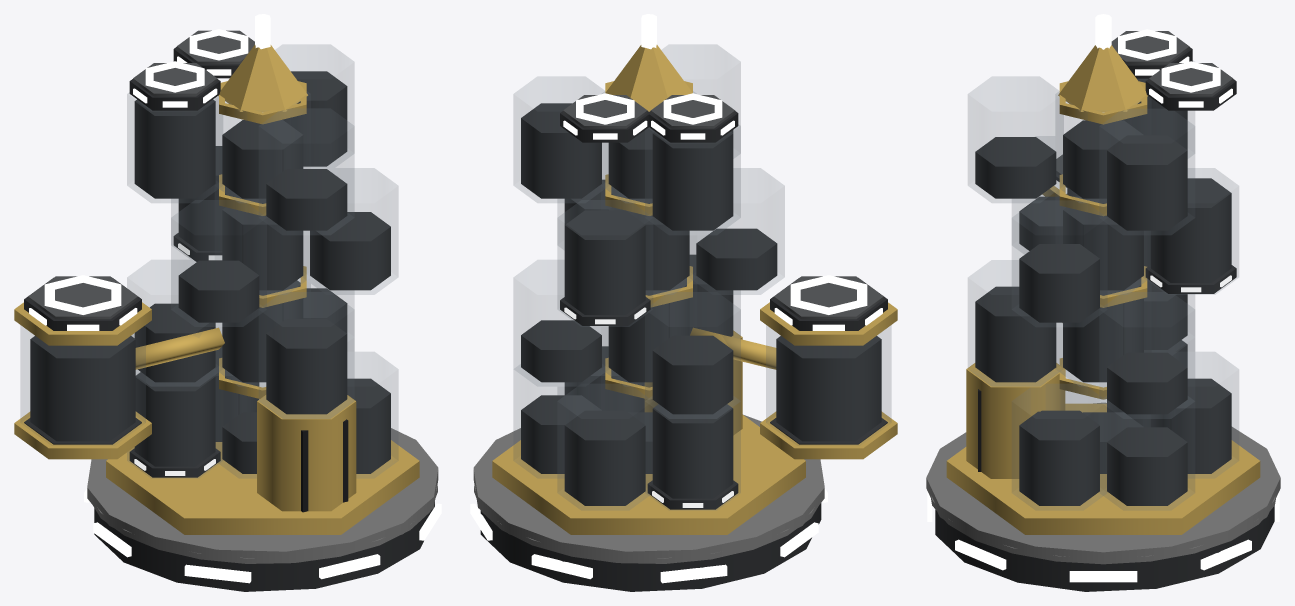
Rendered from Skin_Hive_T1.glb.
3 renders of one model, left to right at view 1: azimuth 30°, elevation 25°; view 2: azimuth 150°, elevation 25°; view 3: azimuth 270°, elevation 25°, orthographic.
Parts seen in each view (by area): view 1: Skin_Hive_T1; view 2: Skin_Hive_T1; view 3: Skin_Hive_T1.
Part boxes in pixels (x1,y1,x2,y2): Skin_Hive_T1: (14,14,441,591); Skin_Hive_T1: (470,14,897,591); Skin_Hive_T1: (926,14,1280,591).
Bounding box in the file's own units: 4.39 × 5.48 × 3.5.
